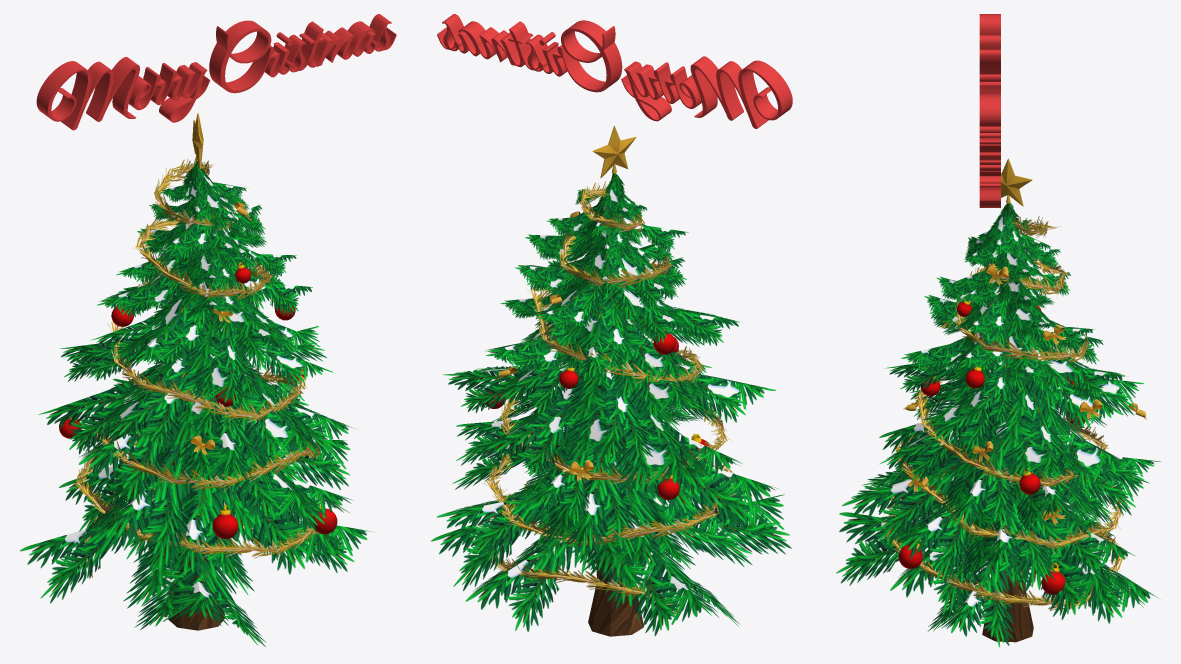
Rendered from CristmasTree_animated5.glb.
The picture shows the model from 3 angles, left to right: view 1: azimuth 30°, elevation 25°; view 2: azimuth 150°, elevation 25°; view 3: azimuth 270°, elevation 25°; orthographic projection. The views are drawn at different scales.
Visible parts, largest first — view 1: Tree.001, Cristmas text, Garland, Bowred, polySurface46; view 2: Tree.001, Cristmas text, Garland, Star, Bowred; view 3: Tree.001, Garland, Cristmas text, Bowred, Star, polySurface45.
Part boxes in pixels (x1,y1,x2,y2): Tree.001: [20, 161, 373, 646]; Cristmas text: [36, 14, 396, 130]; Garland: [71, 157, 326, 577]; Bowred: [86, 202, 314, 457]; polySurface46: [212, 504, 238, 538]; Tree.001: [431, 173, 791, 636]; Cristmas text: [437, 14, 792, 128]; Garland: [482, 181, 736, 614]; Star: [592, 126, 636, 177]; Bowred: [486, 207, 706, 481]; Tree.001: [836, 203, 1160, 647]; Garland: [883, 211, 1127, 612]; Cristmas text: [979, 14, 1000, 207]; Bowred: [903, 264, 1147, 524]; Star: [1001, 158, 1032, 206]; polySurface45: [1042, 563, 1065, 595].
Size of the model in its own units: 0.9593 by 1.55 by 0.8422.
4 materials, 3 textured.
